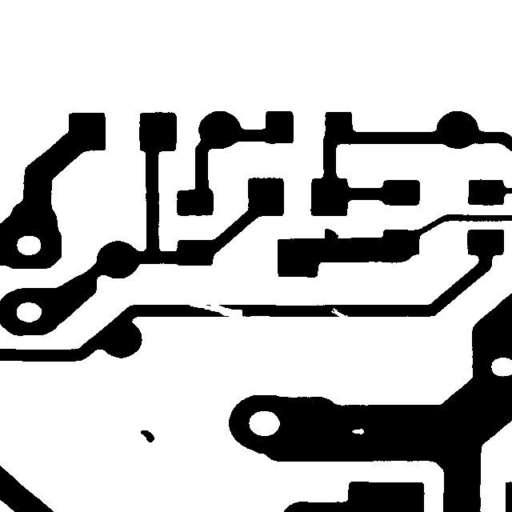copper: (133, 422, 162, 450)
mousebite: (323, 300, 358, 327)
open: (182, 294, 250, 326)
pin-hole: (344, 421, 371, 442)
spur: (317, 221, 346, 250)
